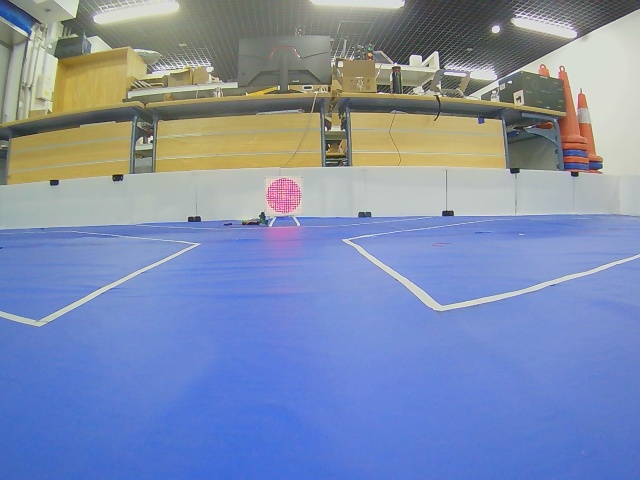red: (266, 177, 302, 215)
